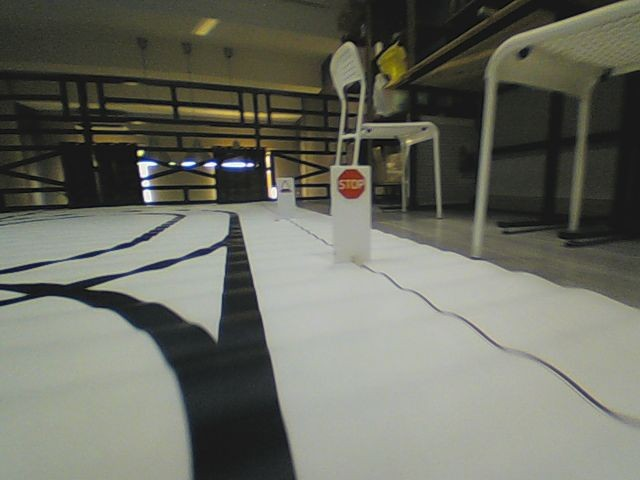Stop: (336, 168, 366, 200)
